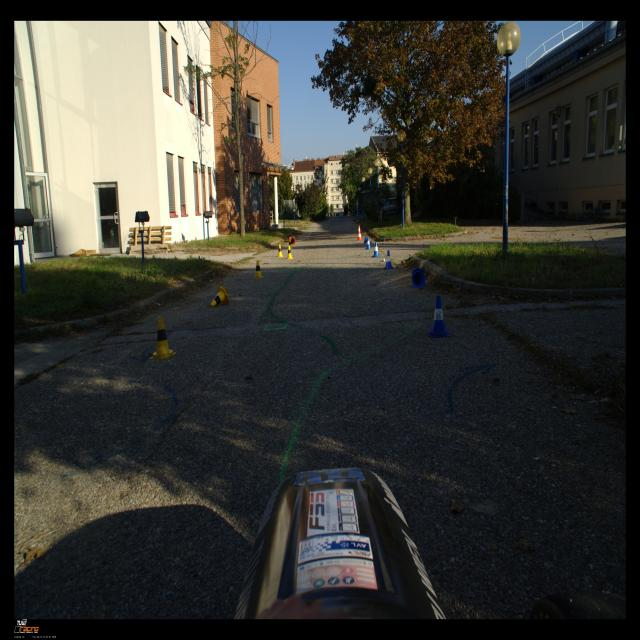blue_cone: (428, 296, 450, 337), (412, 268, 425, 288), (384, 250, 393, 270), (371, 242, 380, 257), (365, 238, 372, 250), (364, 236, 372, 244)
large_orange_cone: (357, 225, 362, 240), (290, 237, 296, 244)
yellow_cone: (150, 317, 176, 359), (210, 286, 229, 308), (253, 260, 264, 279), (287, 246, 293, 259), (277, 244, 283, 257), (287, 239, 293, 249)
